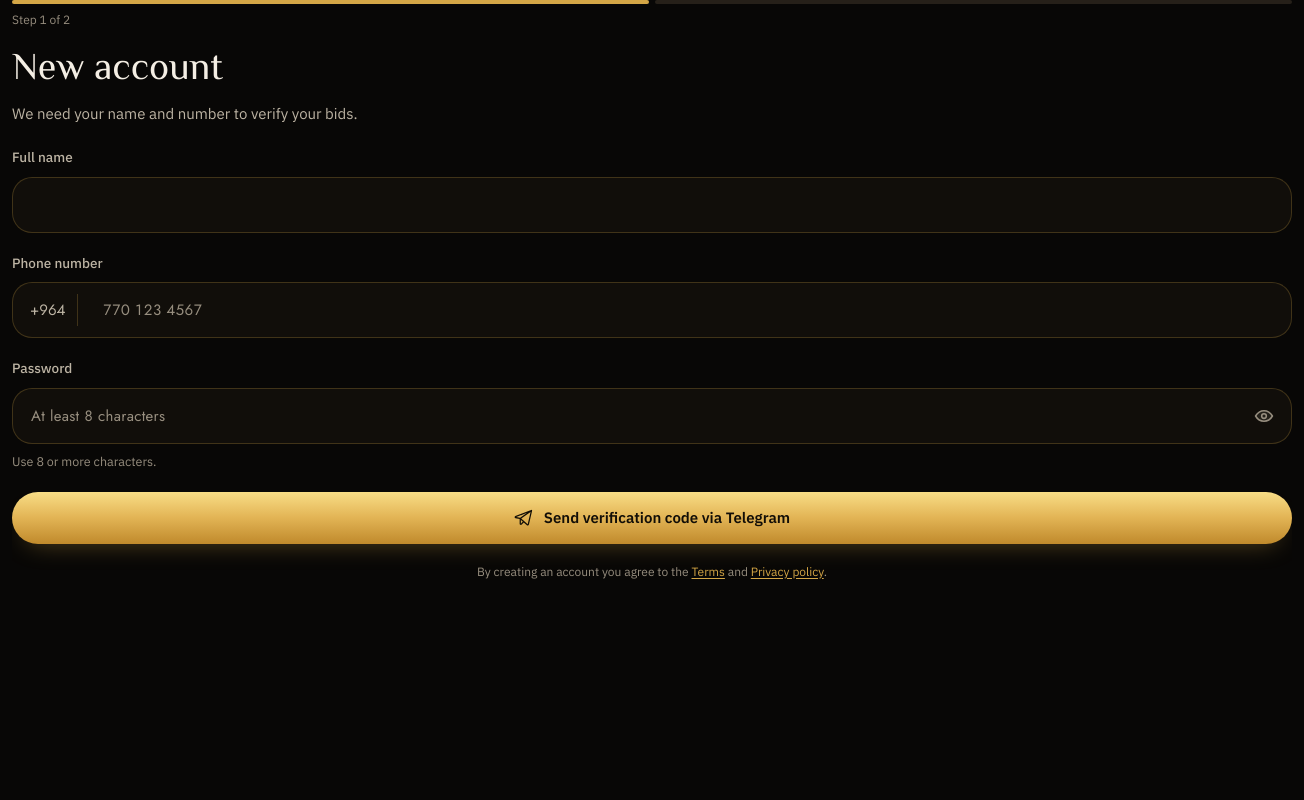
it: RegisterForm — sign-up with OTP › requests a SIGNUP code and moves to the code step without creating an account
The width and height of the screenshot is (1304, 800).
Type "Ali Hassan" into the field labelled "Full name" at point(652, 205), box [12,177,1292,233]
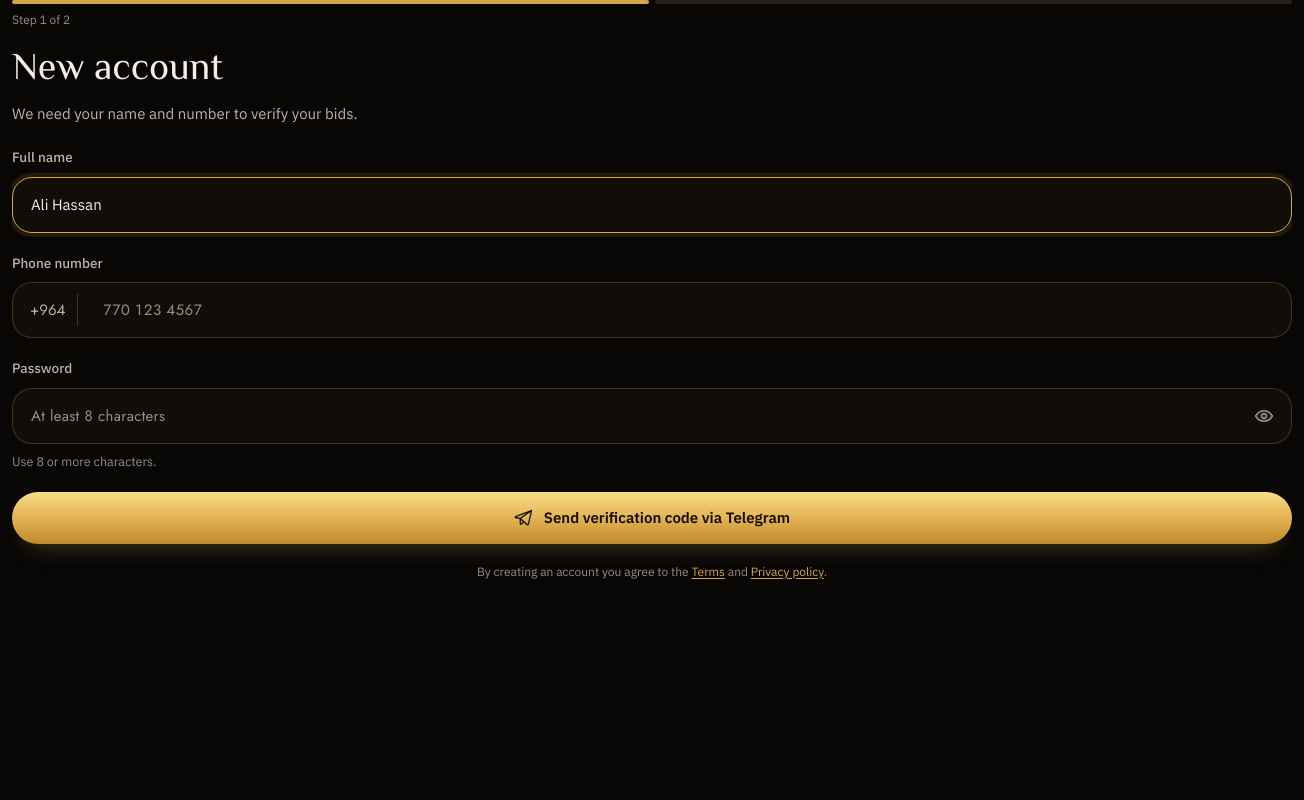
Type "+9647701234567" into the field labelled "Phone number" at point(652, 310), box [12,282,1292,338]
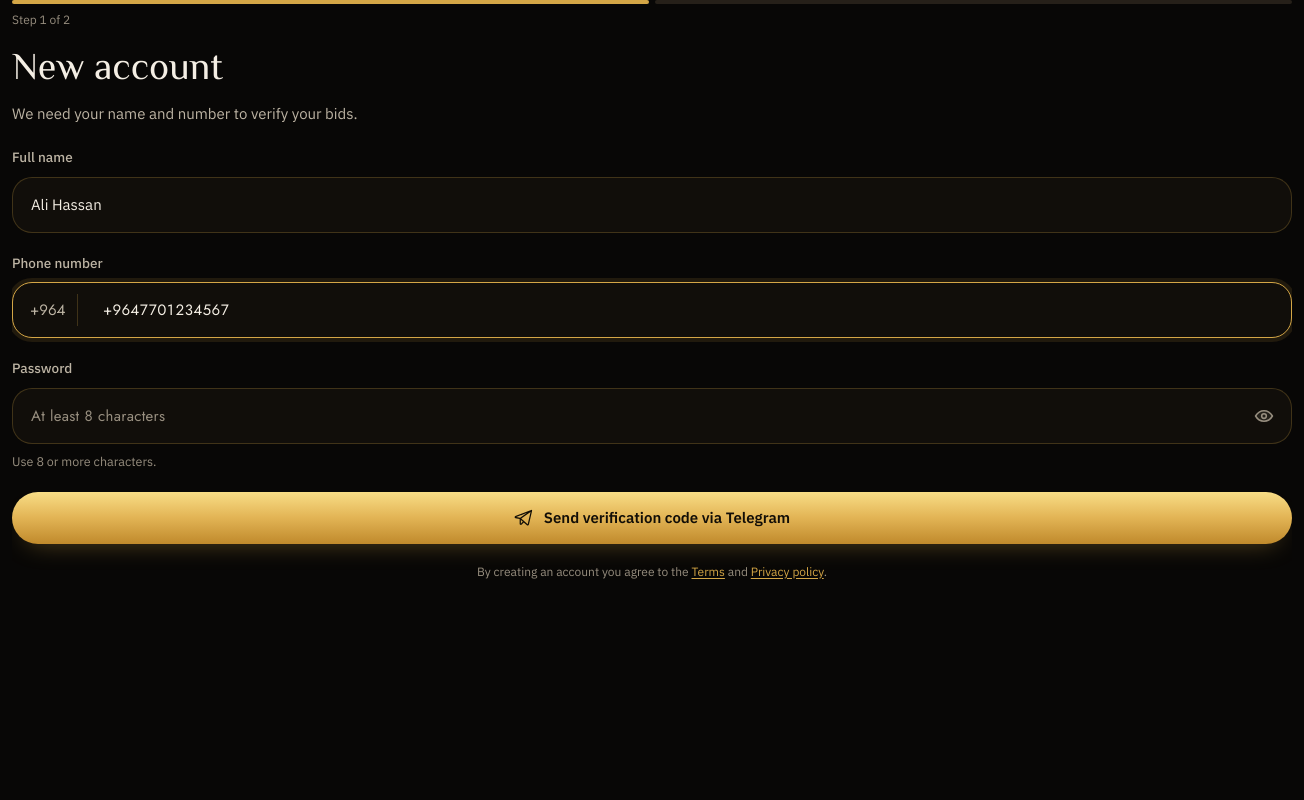
Type "validpassword123" into the password field labelled "Password" at point(652, 416), box [12,388,1292,444]
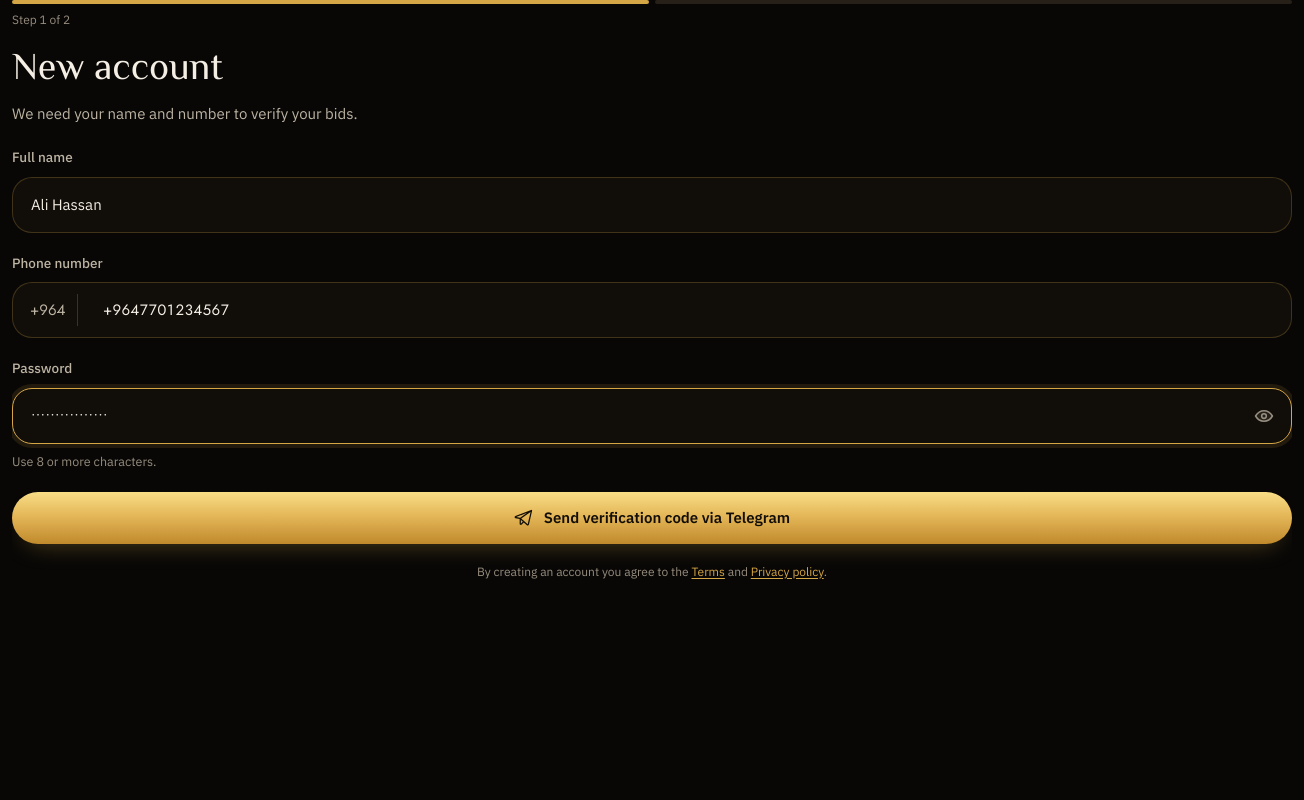
Click the button "Send verification code via Telegram" at point(652, 518), box [12,492,1292,544]
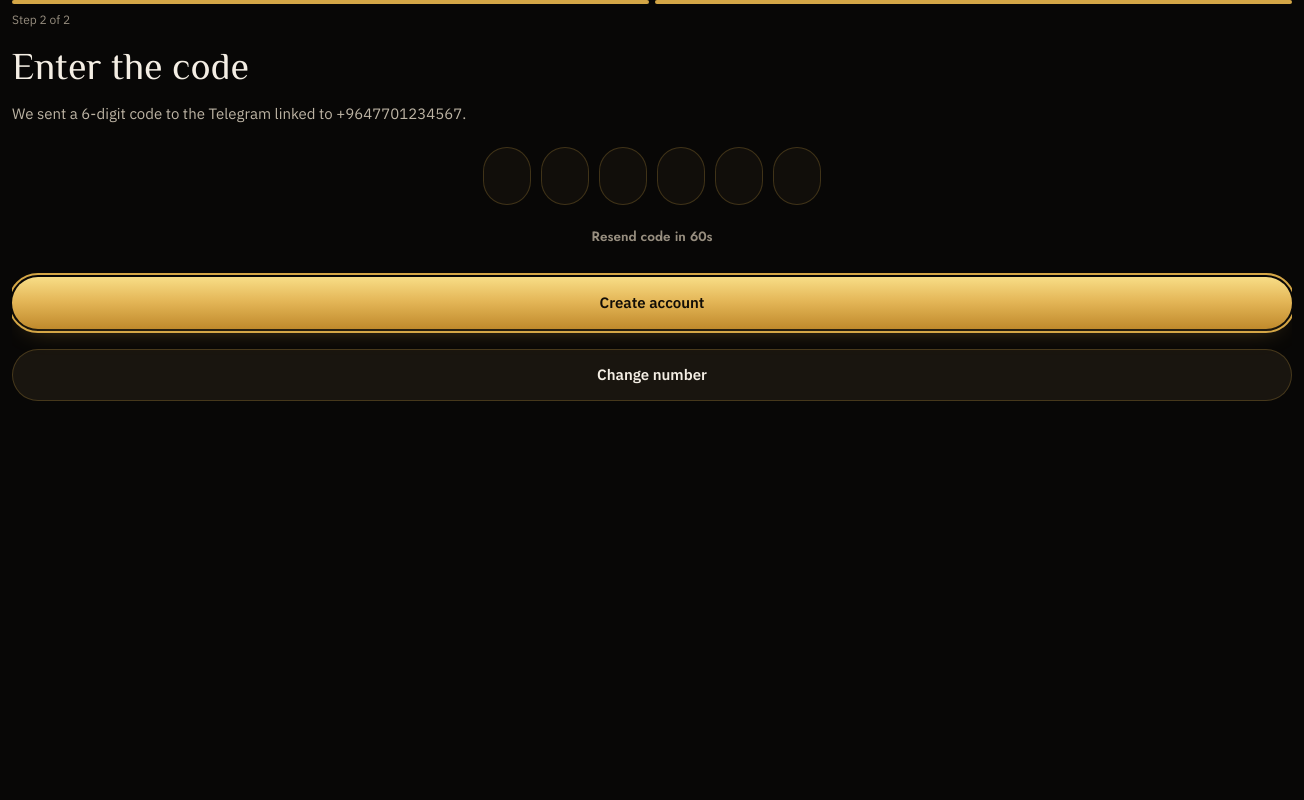
Expected: the text "We sent a 6-digit code" shows "+9647701234567", [12,103,466,125]
